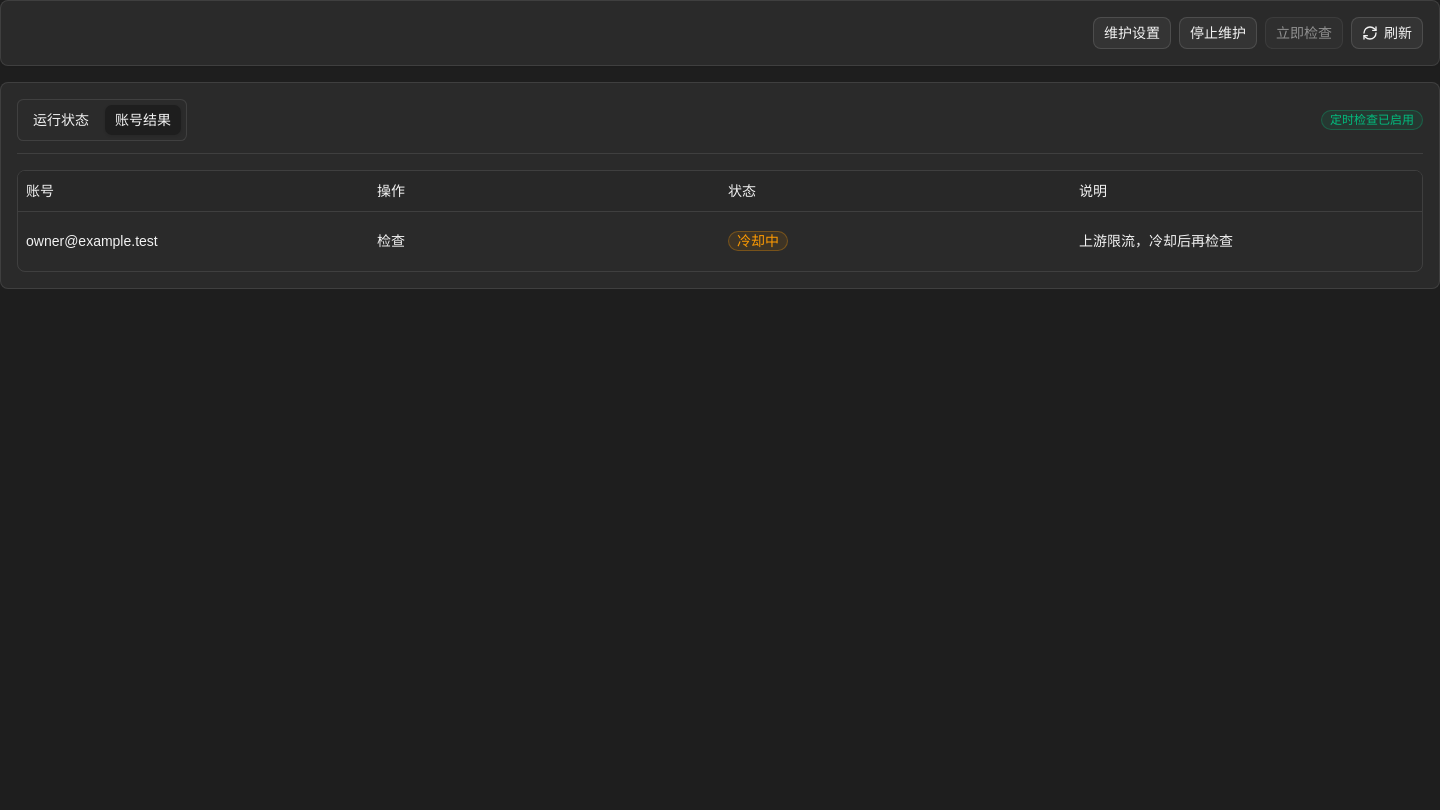
it: 维护运行时禁止改设置和重复检查，同时保留停止入口
Click the button "维护设置" at (1132, 33), box x1=1093 y1=17 x2=1171 y2=49
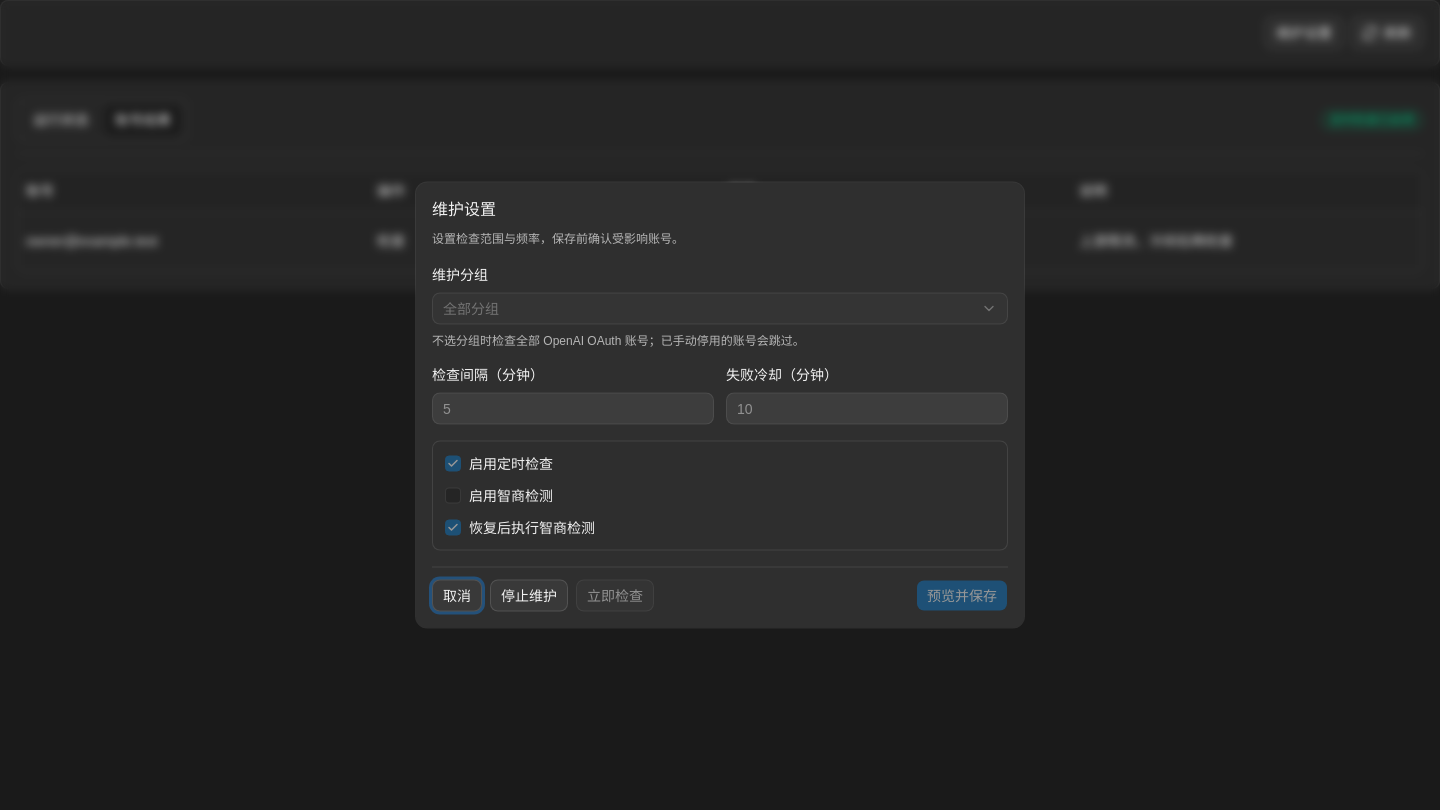
Expected: the button "立即检查" is disabled, x1=576 y1=580 x2=654 y2=612
Now the number field labelled "检查间隔（分钟）" is disabled, box x1=432 y1=392 x2=714 y2=424
Now the button "预览并保存" is disabled, box x1=916 y1=580 x2=1008 y2=612
Click the button "取消" at (457, 596), box x1=432 y1=580 x2=482 y2=612
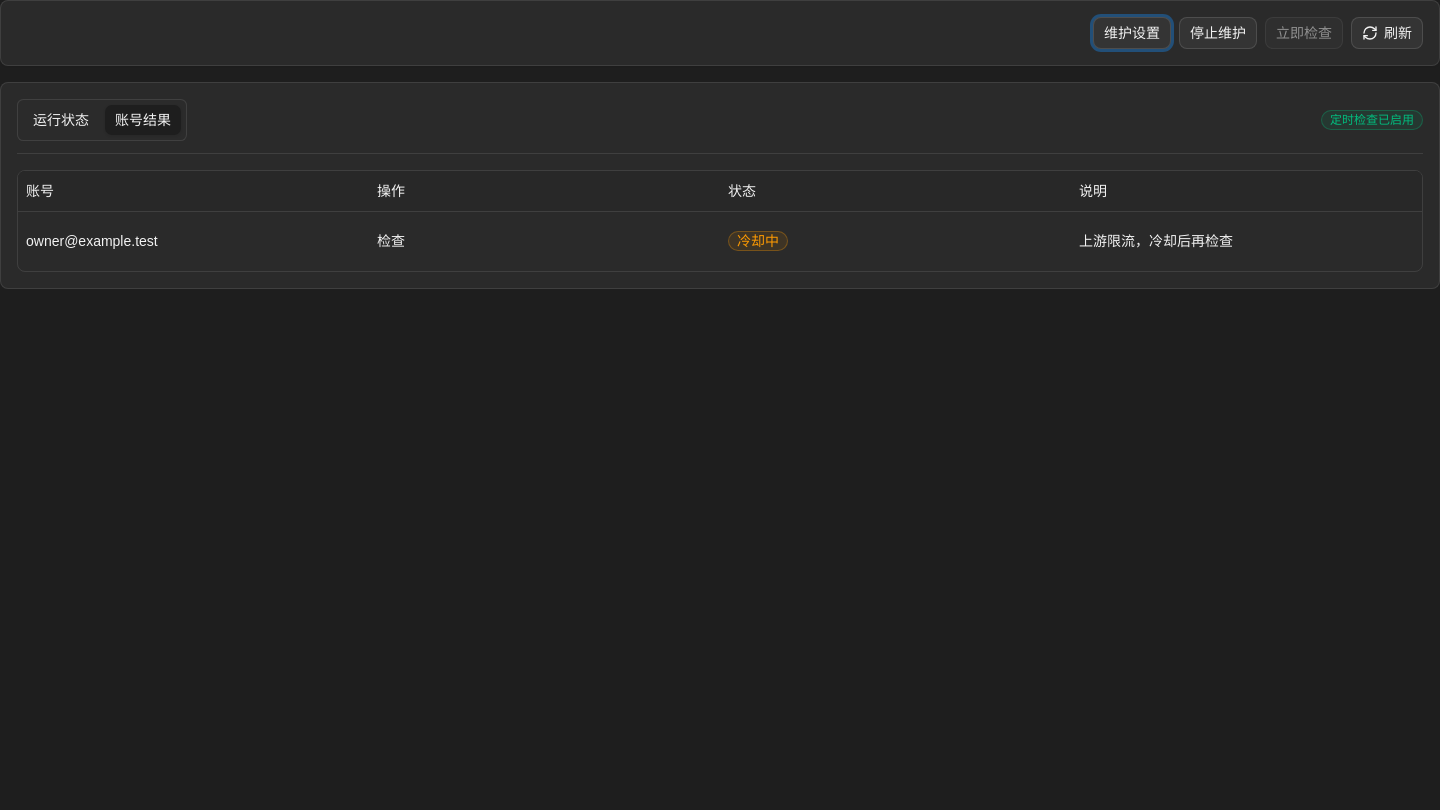
Click the tab "运行状态" at (61, 120), box x1=22 y1=104 x2=100 y2=136
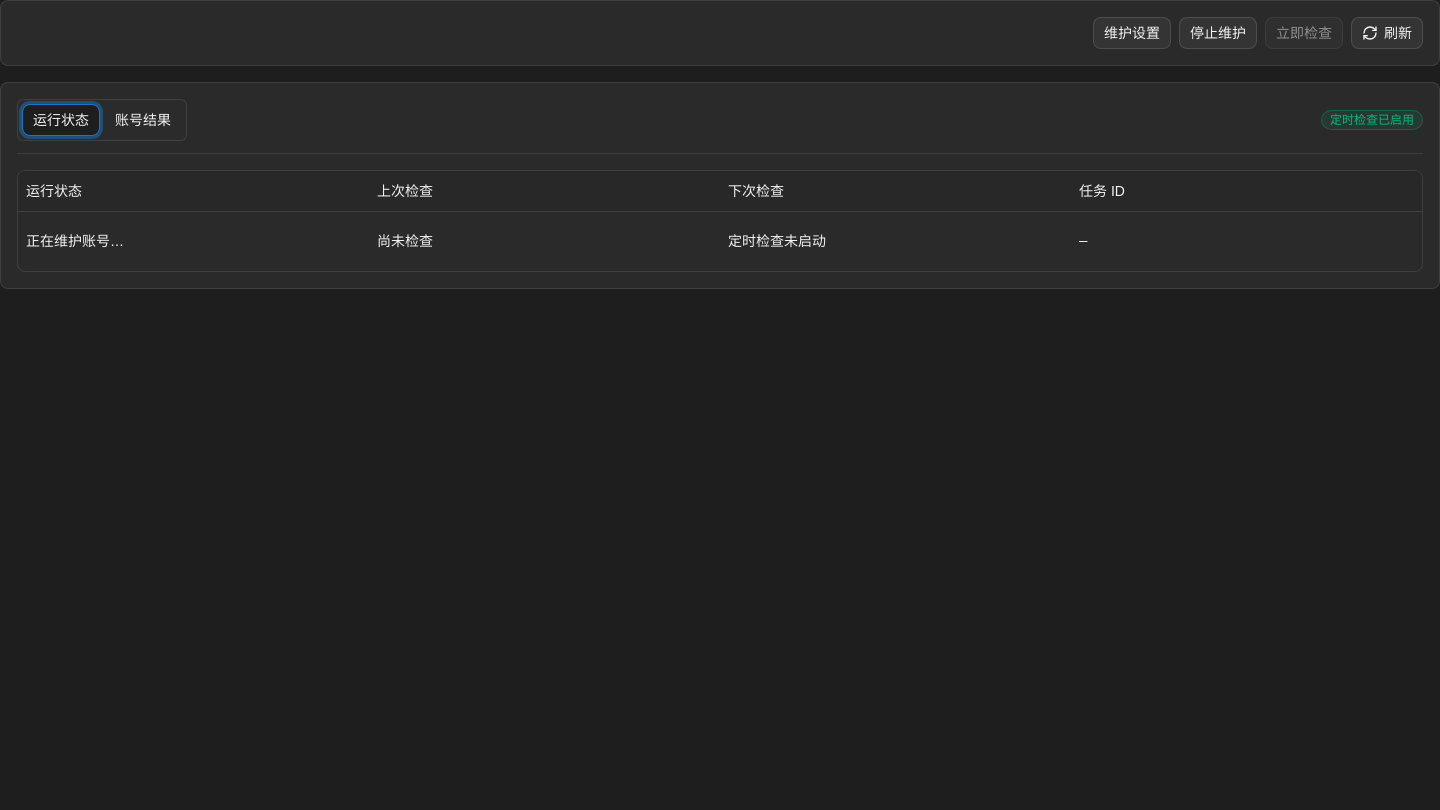
Now the message shows "正在维护账号", box x1=26 y1=233 x2=124 y2=249
Click the tab "账号结果" at (143, 120), box x1=104 y1=104 x2=182 y2=136
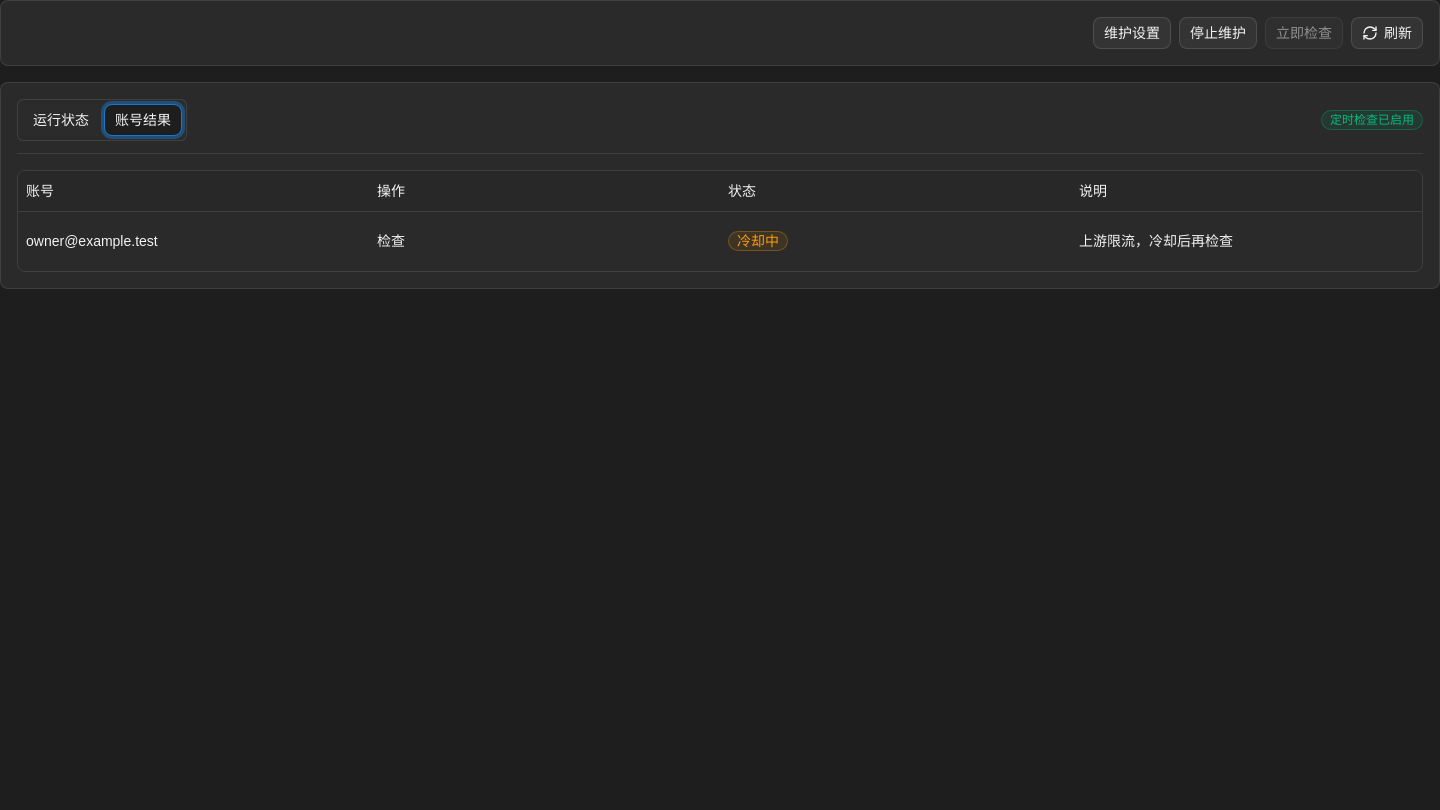
Now the cell "上游限流，冷却后再检查" is shown, box x1=1071 y1=211 x2=1422 y2=271
